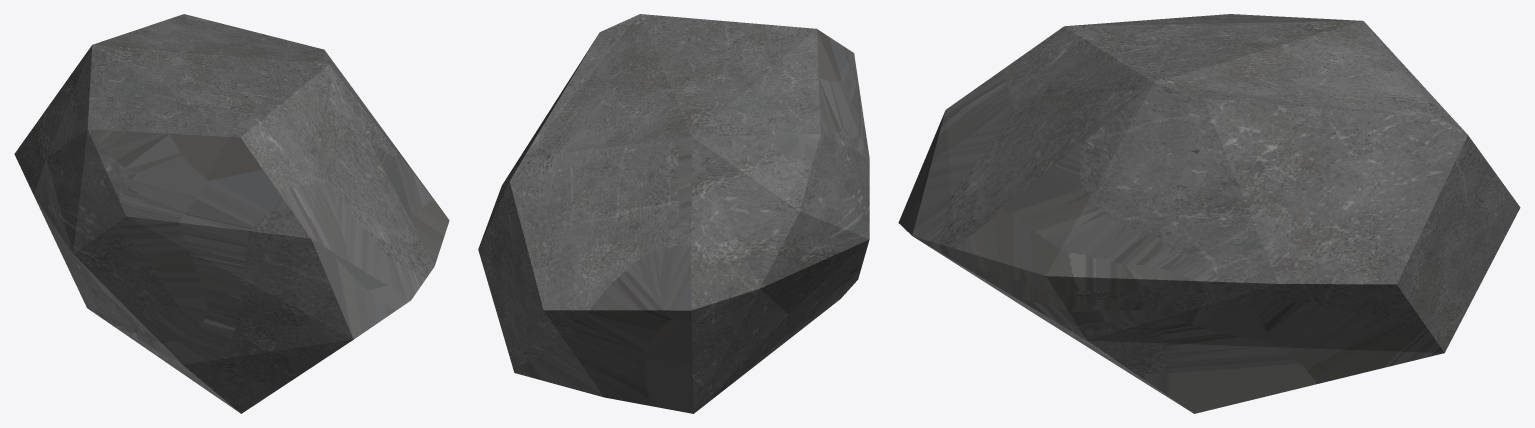
Rendered from LowPolyRock.fbx.
3 views of the same model, side by side, from view 1: azimuth 30°, elevation 25°; view 2: azimuth 150°, elevation 25°; view 3: azimuth 270°, elevation 25° (orthographic). The views are drawn at different scales.
Parts seen in each view (by area): view 1: pPlatonic10; view 2: pPlatonic10; view 3: pPlatonic10.
Boxes of the visible parts, x1=… form: pPlatonic10: x1=14, y1=14, x2=449, y2=413; pPlatonic10: x1=478, y1=14, x2=869, y2=413; pPlatonic10: x1=898, y1=14, x2=1520, y2=413.
Size of the model in its own units: 1.84 by 1.63 by 2.82.
